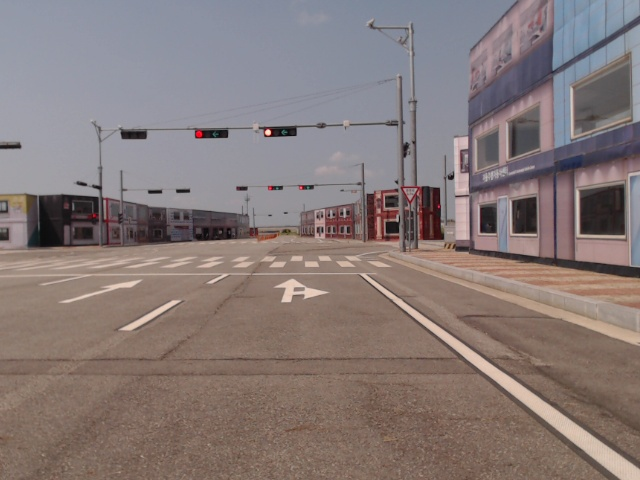left_green_4: (195, 130, 229, 139), (264, 128, 297, 137), (267, 186, 283, 191), (299, 186, 314, 191)
